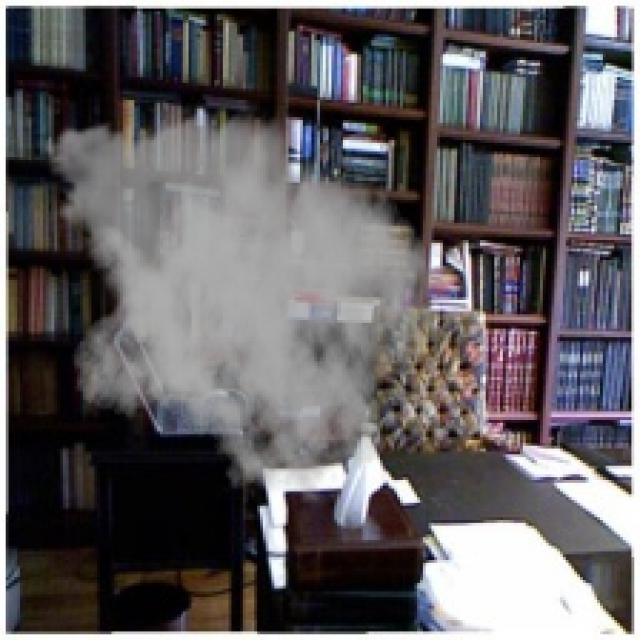smoke: (32, 100, 434, 506)
